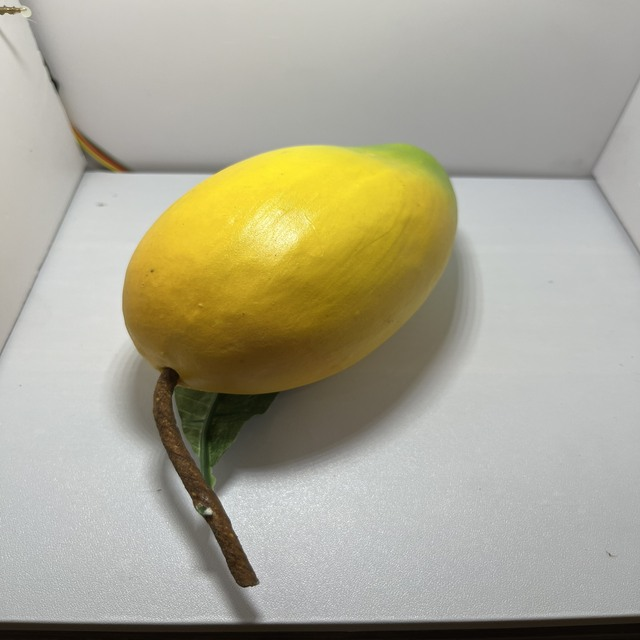Xoai: (64, 56, 522, 473)
